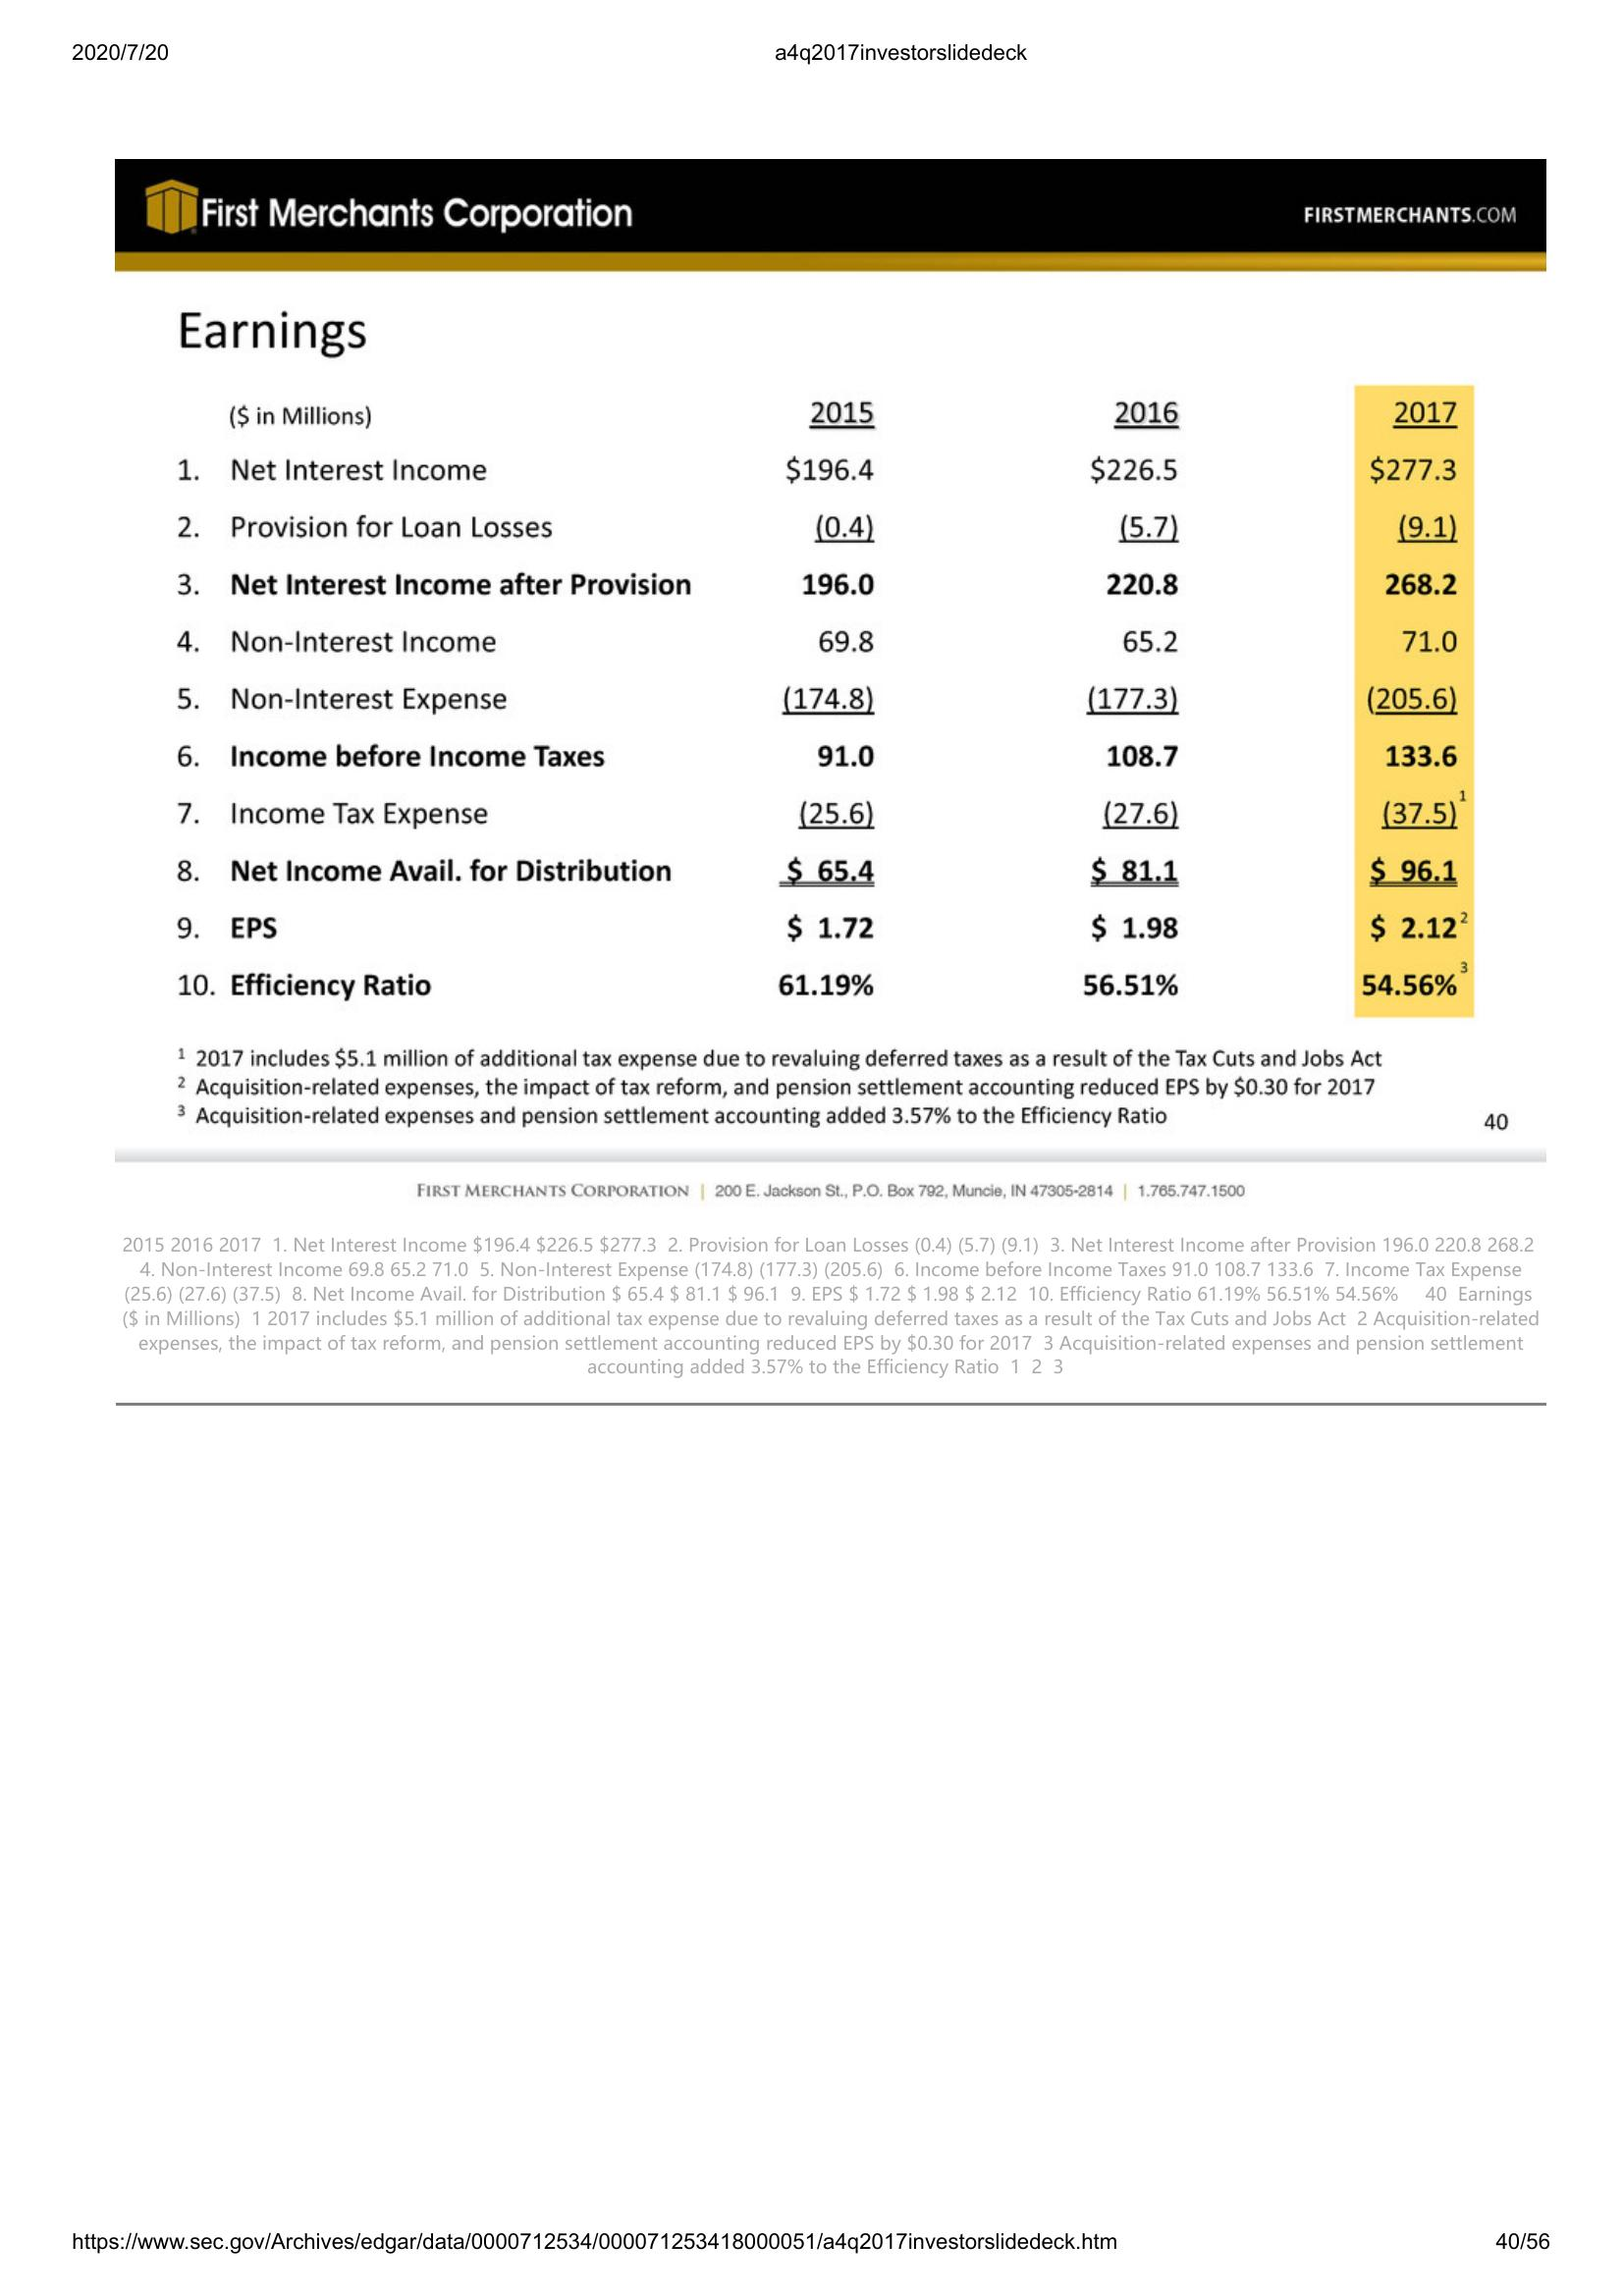table: (162, 300, 1482, 1023)
